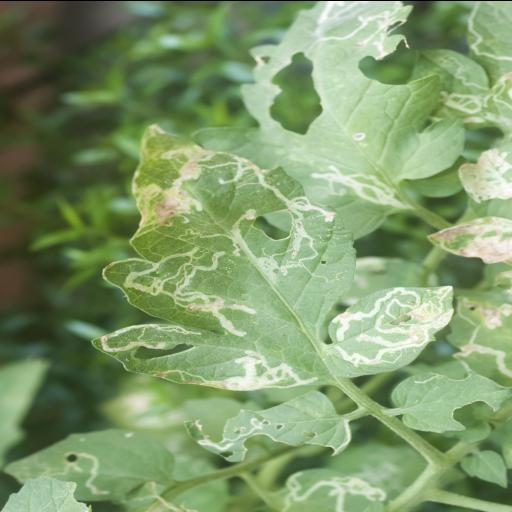Leaf Miner: (87, 120, 457, 390)
